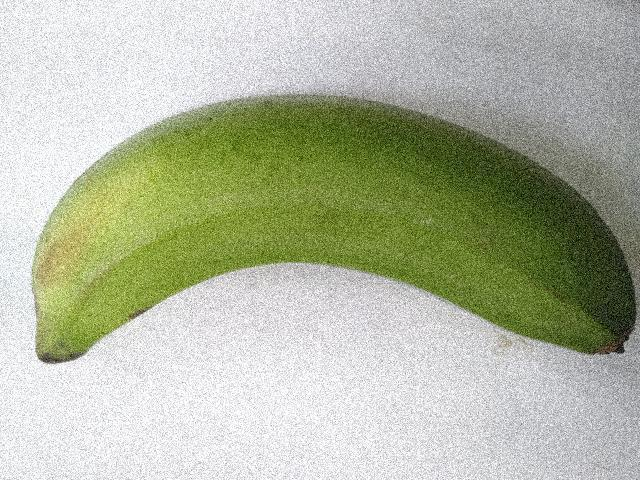freshunripe: (16, 81, 639, 389)
